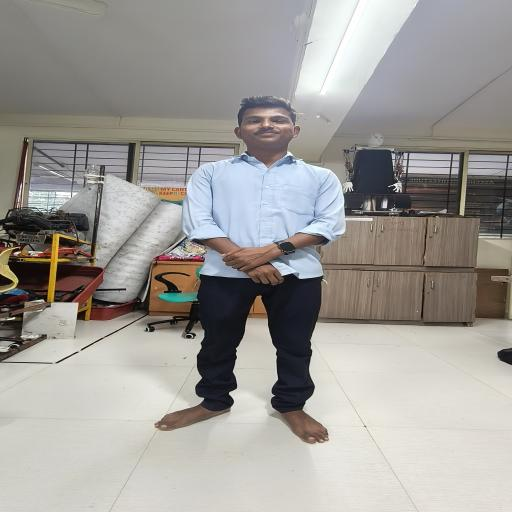survivor: (154, 95, 348, 444)
